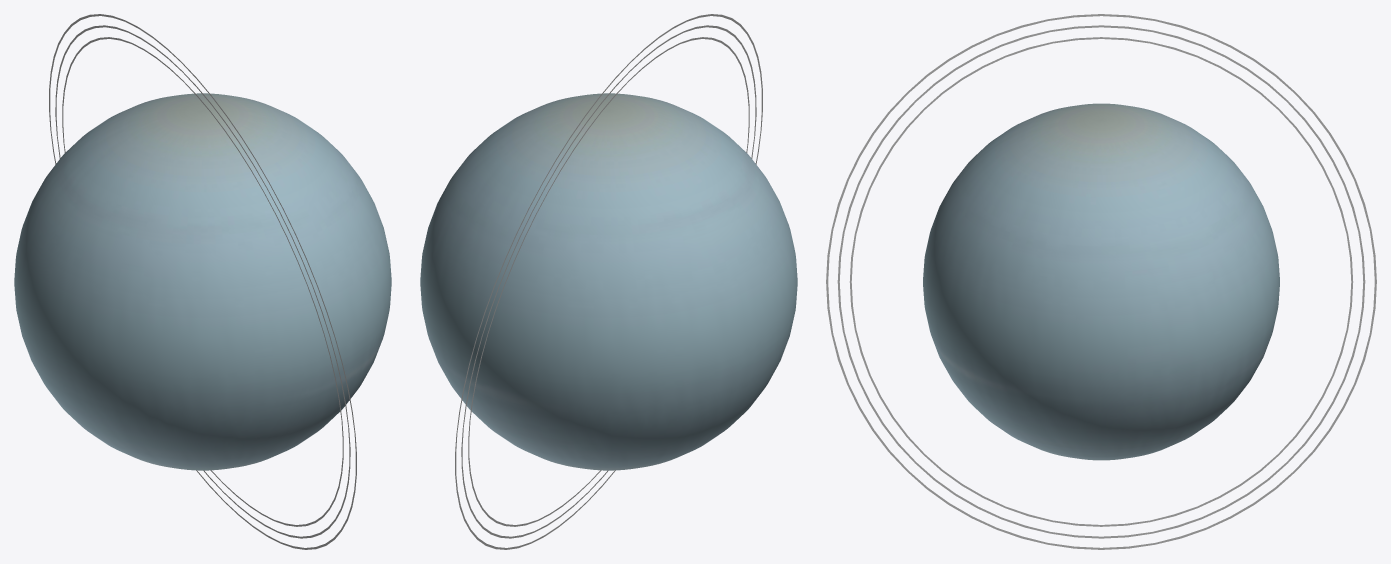
The model's file is uranus.gltf.
The picture shows the model from 3 angles, left to right: view 1: azimuth 30°, elevation 25°; view 2: azimuth 150°, elevation 25°; view 3: azimuth 270°, elevation 25°; orthographic projection. The views are drawn at different scales.
Parts seen in each view (by area): view 1: Sphere, Circle, Circle.001, Circle.002; view 2: Sphere, Circle, Circle.001, Circle.002; view 3: Sphere, Circle, Circle.001, Circle.002.
Part boxes in pixels (x1,y1,x2,y2): Sphere: [14, 93, 391, 470]; Circle: [49, 14, 356, 549]; Circle.001: [55, 25, 350, 538]; Circle.002: [62, 37, 343, 526]; Sphere: [420, 93, 797, 470]; Circle: [455, 14, 762, 549]; Circle.001: [461, 25, 756, 538]; Circle.002: [468, 37, 749, 526]; Sphere: [923, 103, 1279, 460]; Circle: [826, 14, 1376, 549]; Circle.001: [837, 25, 1365, 538]; Circle.002: [849, 37, 1353, 526].
Size of the model in its own units: 200 by 302 by 308.
2 materials, 1 textured.
